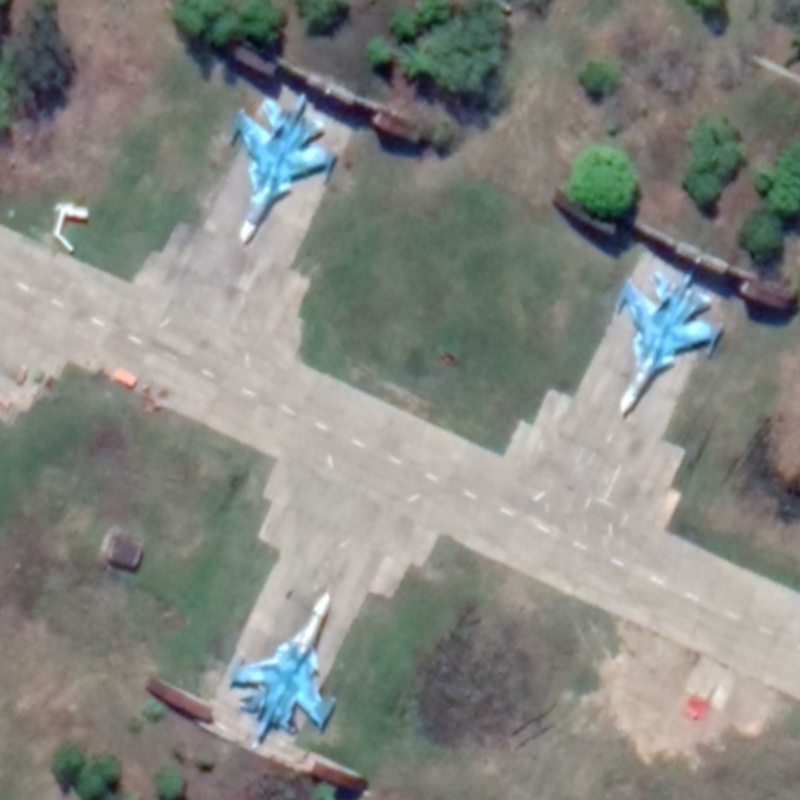A19: (224, 590, 340, 749), (226, 91, 339, 246), (612, 266, 726, 416)
